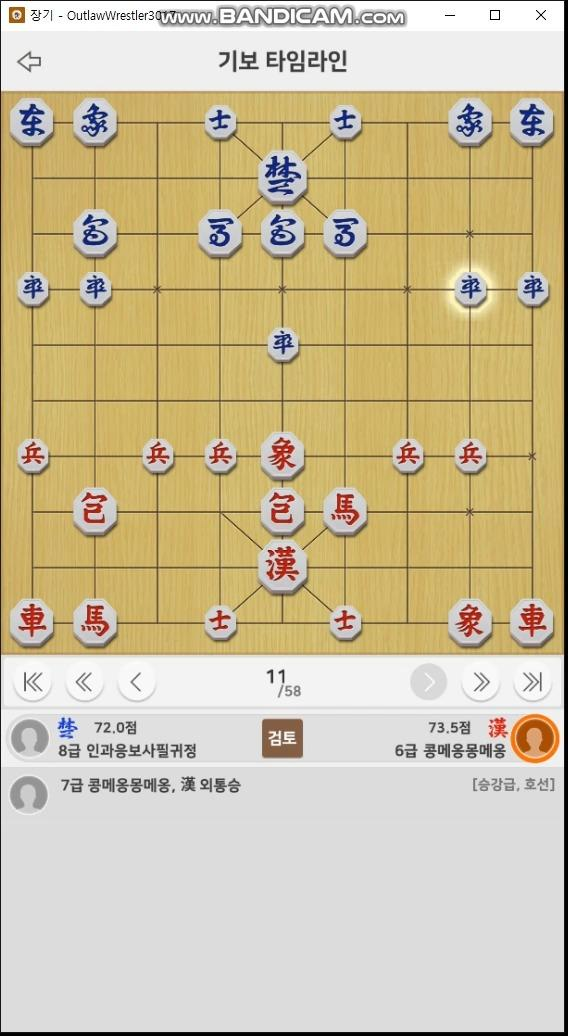cha_green: (12, 99, 54, 145), (512, 100, 553, 146)
cha_red: (10, 597, 52, 647), (509, 601, 553, 648)
jol_green: (514, 271, 551, 308), (452, 271, 488, 309), (77, 271, 115, 306), (16, 272, 52, 307), (266, 325, 300, 362)
jol_red: (393, 438, 424, 474), (457, 439, 487, 476), (144, 437, 174, 474), (19, 440, 49, 474), (207, 440, 236, 475)
ma_green: (199, 208, 244, 260), (324, 209, 369, 260)
ma_red: (321, 486, 370, 537), (74, 599, 118, 644)
po_green: (261, 209, 306, 254), (75, 209, 115, 255)
po_red: (73, 487, 116, 535), (258, 490, 304, 530)
sa_green: (328, 106, 362, 143), (202, 106, 237, 138)
sa_red: (330, 605, 362, 643), (205, 605, 236, 642)
sang_green: (75, 97, 117, 144), (450, 97, 492, 143)
sang_red: (261, 434, 305, 479), (448, 603, 493, 644)
wang_green: (258, 149, 306, 202)
wang_red: (257, 542, 309, 593)
